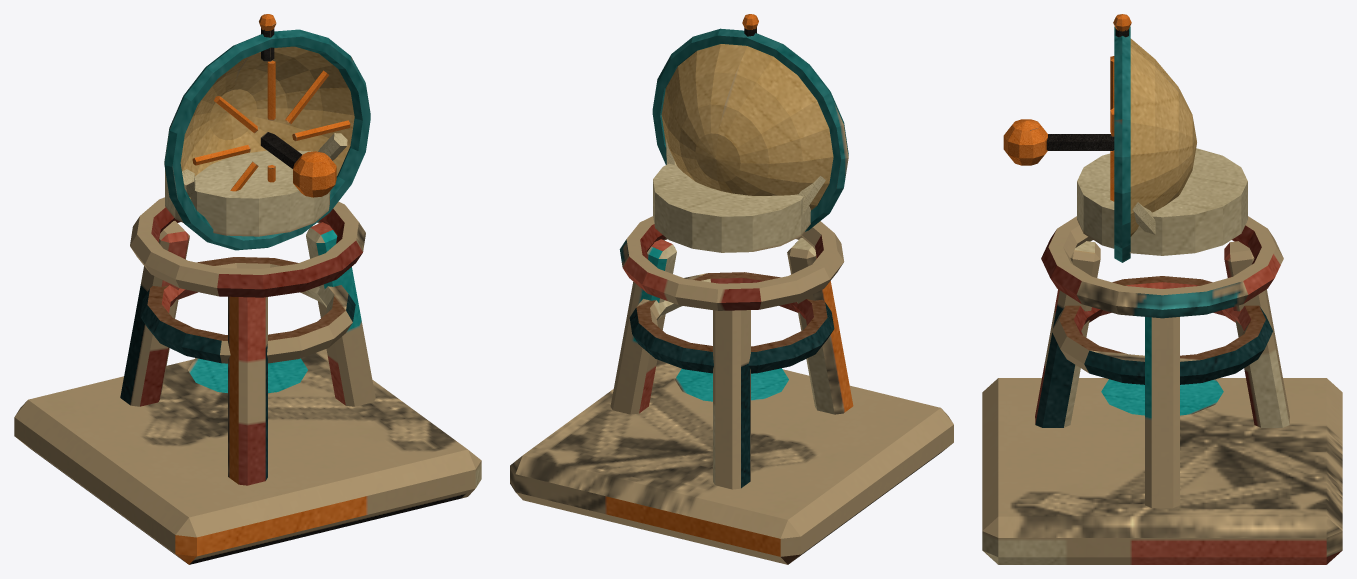
File: turret.e6.glb
The picture shows the model from 3 angles, left to right: view 1: azimuth 30°, elevation 25°; view 2: azimuth 150°, elevation 25°; view 3: azimuth 270°, elevation 25°; orthographic projection. The views are drawn at different scales.
Visible parts, largest first — view 1: SunlineMountE6; view 2: SunlineMountE6; view 3: SunlineMountE6.
Part boxes in pixels (x1,y1,x2,y2): SunlineMountE6: (14, 14, 481, 564); SunlineMountE6: (510, 14, 953, 564); SunlineMountE6: (982, 14, 1342, 564).
Size of the model in its own units: 1.35 by 1.99 by 1.35.
1 material, 1 textured.
